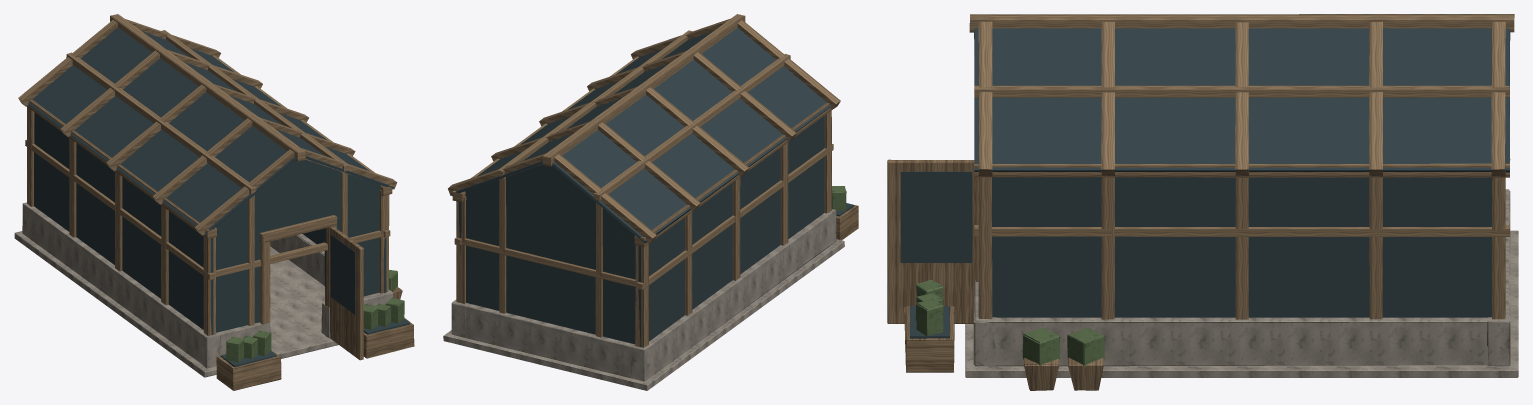
Rendered from greenhouse.glb.
3 views of the same model, side by side, from view 1: azimuth 30°, elevation 25°; view 2: azimuth 150°, elevation 25°; view 3: azimuth 270°, elevation 25° (orthographic). The views are drawn at different scales.
Visible parts, largest first — view 1: Greenhouse; view 2: Greenhouse; view 3: Greenhouse.
Part boxes in pixels (left/top/right/bottom): Greenhouse: left=14, top=14, right=414, bottom=390; Greenhouse: left=443, top=14, right=858, bottom=390; Greenhouse: left=887, top=14, right=1518, bottom=390.
Bounding box in the file's own units: 4.63 × 4.04 × 7.93.
Materials: 4 (3 with a texture image).
